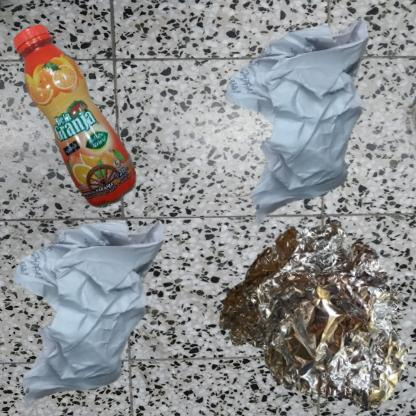aluminio: (213, 213, 416, 414)
botella: (10, 10, 160, 249)
papel: (213, 10, 406, 236), (10, 213, 168, 409)
